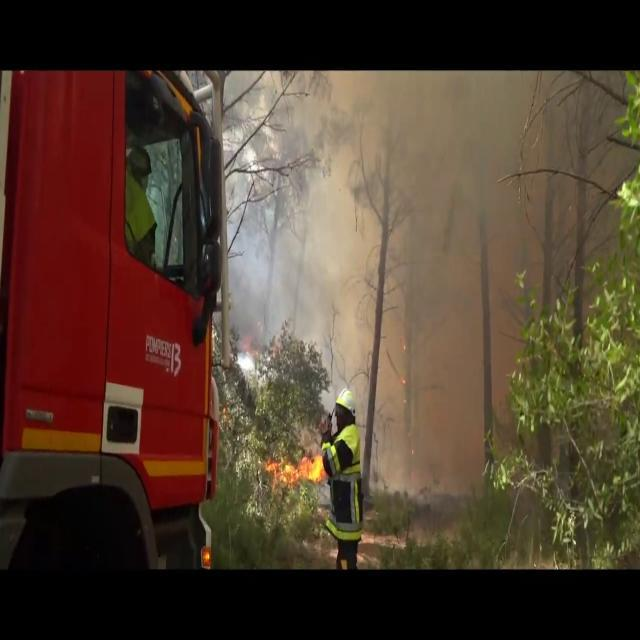Fire: (268, 443, 326, 492)
Smoke: (238, 71, 602, 427)
